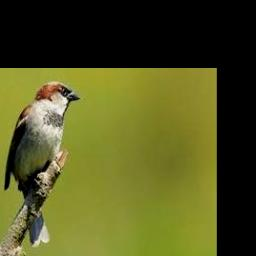Sparrow: (3, 81, 79, 246)
